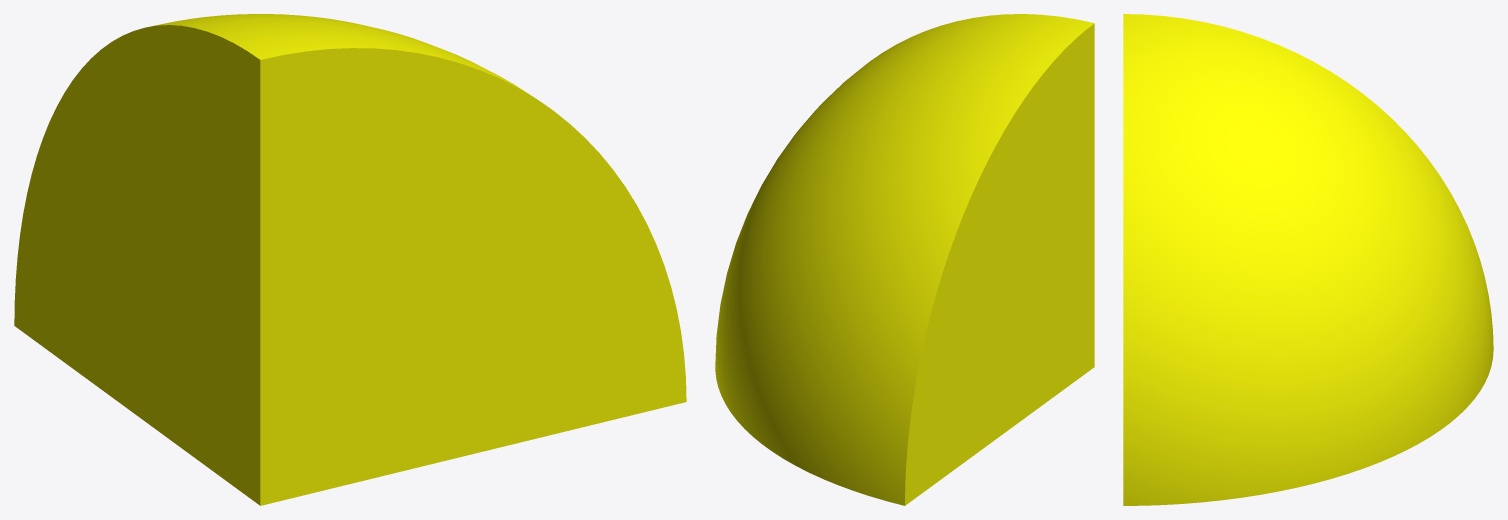
Rendered from 3b-farkli-renk.gltf.
3 views of the same model, side by side, from view 1: azimuth 30°, elevation 25°; view 2: azimuth 150°, elevation 25°; view 3: azimuth 270°, elevation 25° (orthographic). The views are drawn at different scales.
Parts seen in each view (by area): view 1: Open CASCADE STEP translator 7.8 3; view 2: Open CASCADE STEP translator 7.8 3; view 3: Open CASCADE STEP translator 7.8 3.
Boxes of the visible parts, bbox=[...] form: Open CASCADE STEP translator 7.8 3: bbox=[14, 14, 686, 505]; Open CASCADE STEP translator 7.8 3: bbox=[715, 14, 1094, 505]; Open CASCADE STEP translator 7.8 3: bbox=[1123, 14, 1493, 505].
Bounding box in the file's own units: 0.001 × 0.001 × 0.001.
